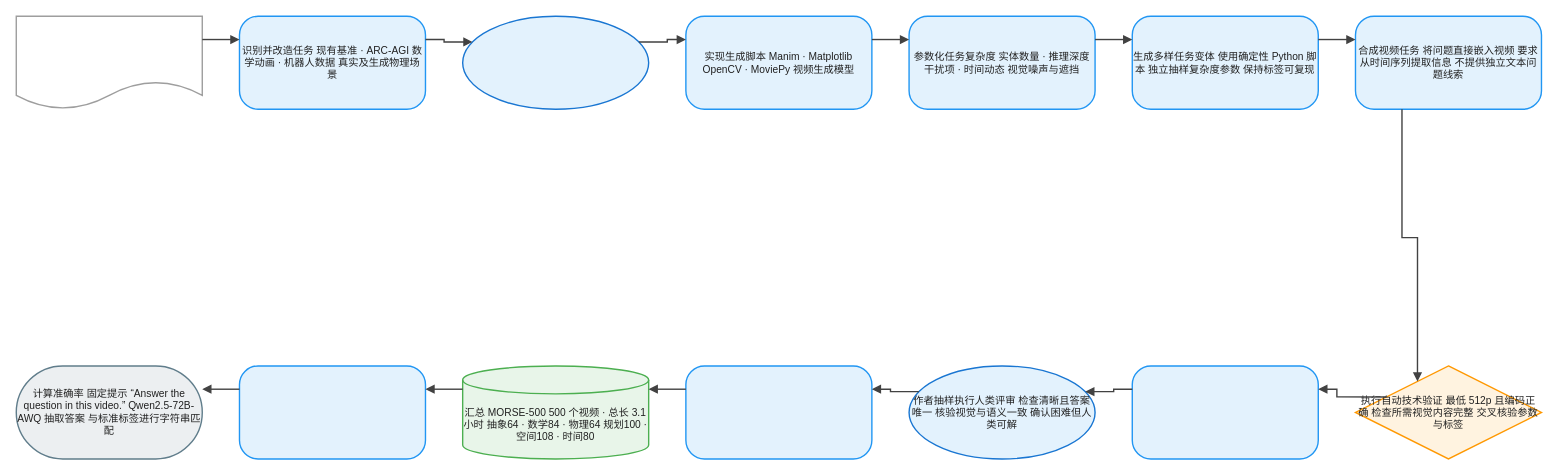
Some shapes in this 1559 by 476 pixel diagram are drawn without their labels. Here are the shapes that lost their labels. From the top down, the centre of each, then its label:
At [109,62]: "定义推理能力分类 抽象 · 数学 物理 · 规划 空间 · 时间".
At [555,62]: "构建概念原型 领域专家定义推理挑战 使用 Vibe Coding 流程 迭代校正任务语义".
At [332,412]: "执行标准模型推理 原生视频模型输入完整视频 其他模型 2 FPS · 最多 32 帧 长边缩放至 512 像素".
At [778,412]: "修订认知质量问题 修复时序与视觉对比 处理程序生成边界情况 每类别重复两至三轮".
At [1225,412]: "修复技术问题 渲染或动画伪影 关键视觉元素缺失 参数与标签不一致".
